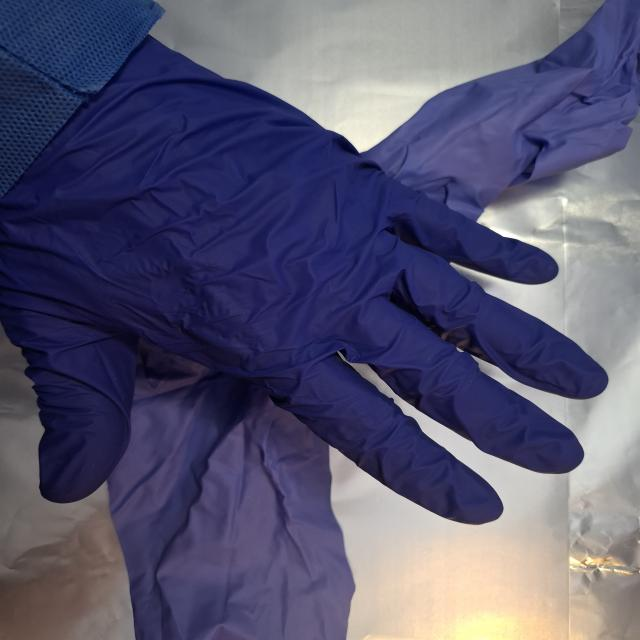glove_on: (0, 42, 612, 526)
